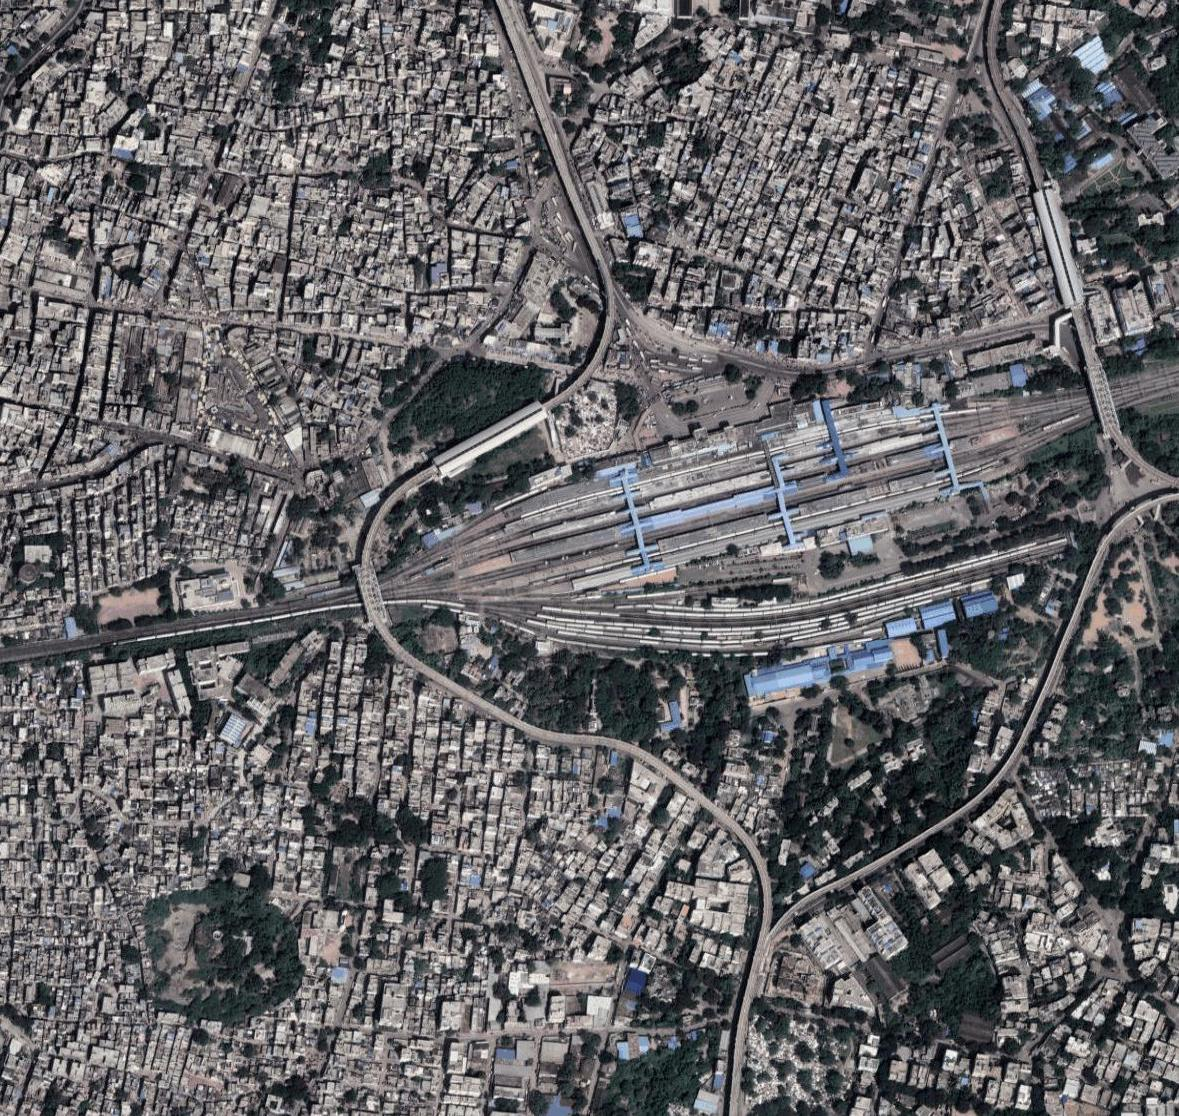bridge: (1082, 367, 1121, 425), (350, 561, 388, 619)
train_station: (573, 399, 931, 571)
